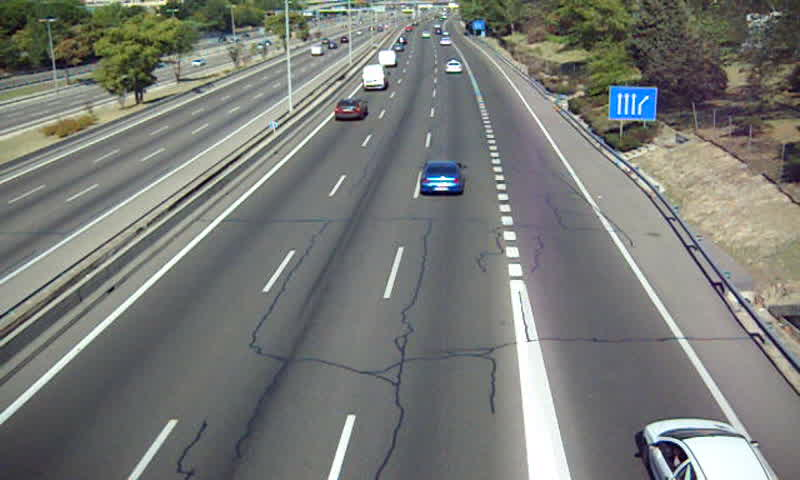car: (418, 158, 464, 196), (334, 97, 369, 120), (446, 61, 464, 74)
van: (361, 64, 391, 90), (379, 48, 396, 68)
